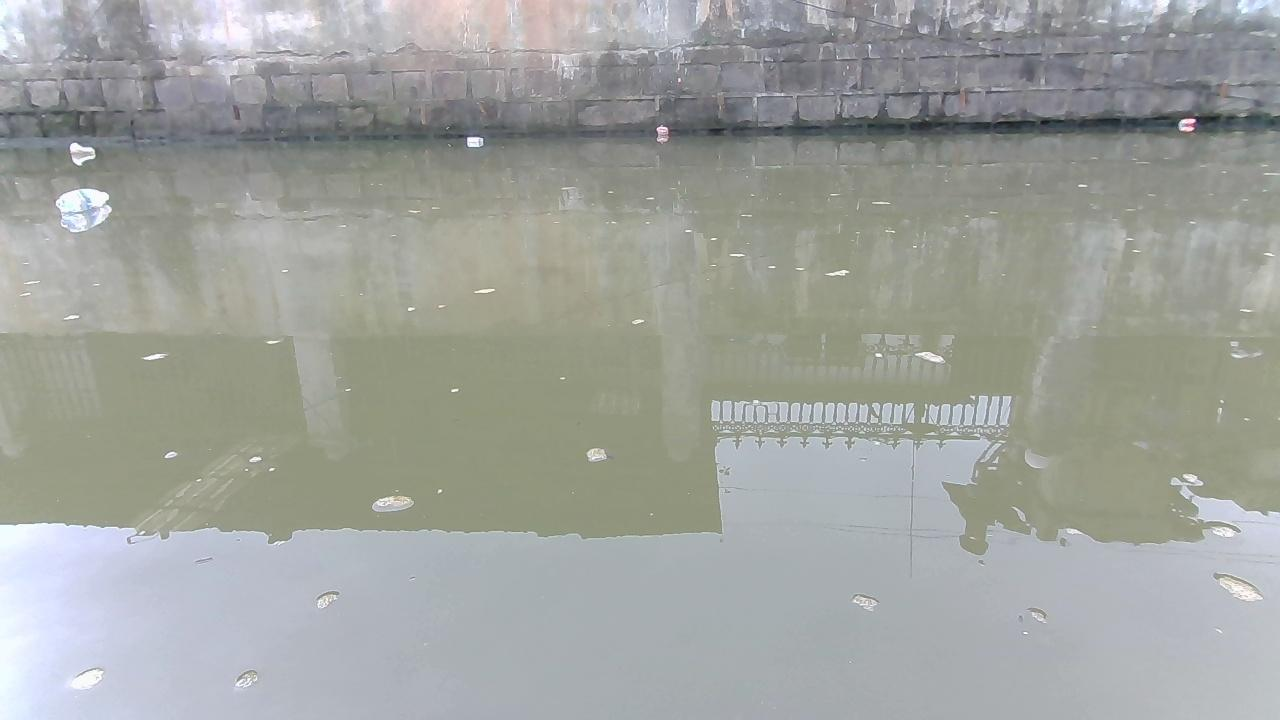bottle: (54, 187, 114, 213), (67, 140, 96, 157), (1179, 115, 1196, 127), (656, 123, 666, 134), (465, 135, 480, 142)
